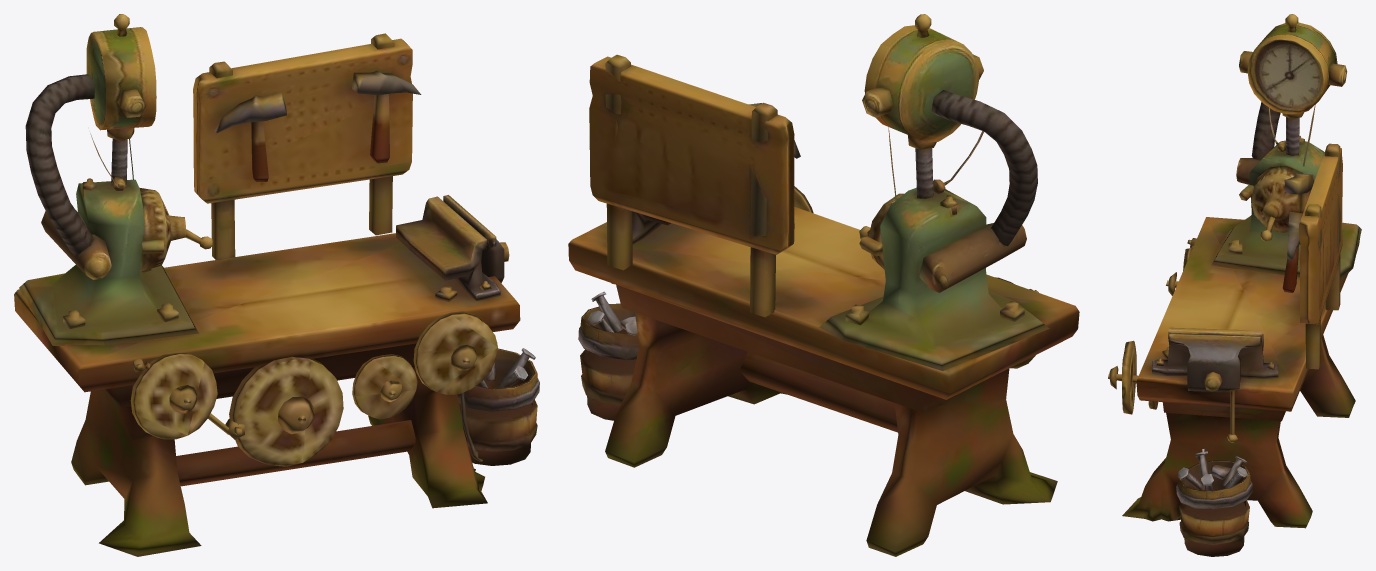
The model's file is station_engineering_bench.glb.
3 views of the same model, side by side, from view 1: azimuth 30°, elevation 25°; view 2: azimuth 150°, elevation 25°; view 3: azimuth 270°, elevation 25° (orthographic). The views are drawn at different scales.
Parts seen in each view (by area): view 1: tripo_node_de64ad4c-60bb-4574-a64b-6376990e5003; view 2: tripo_node_de64ad4c-60bb-4574-a64b-6376990e5003; view 3: tripo_node_de64ad4c-60bb-4574-a64b-6376990e5003.
Part boxes in pixels (<box>): tripo_node_de64ad4c-60bb-4574-a64b-6376990e5003: <box>14,14,539,556</box>; tripo_node_de64ad4c-60bb-4574-a64b-6376990e5003: <box>568,14,1079,556</box>; tripo_node_de64ad4c-60bb-4574-a64b-6376990e5003: <box>1108,14,1361,556</box>.
Bounding box in the file's own units: 2.4 × 2.4 × 1.39.
1 material, 1 textured.
